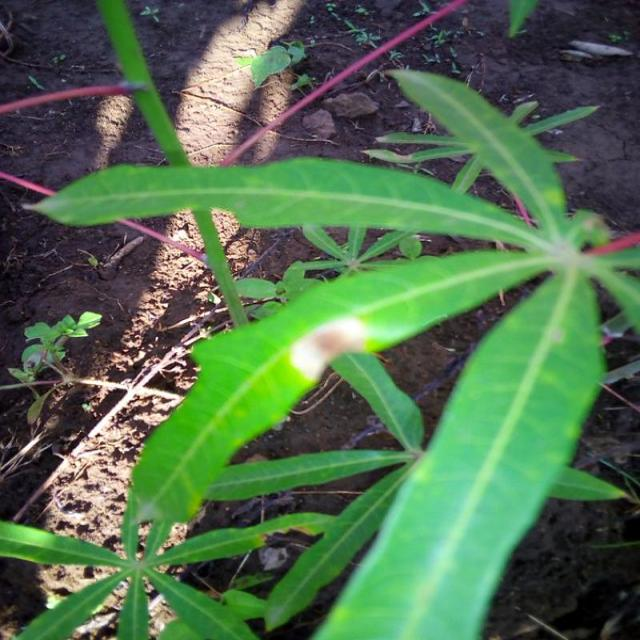cassava leaf: (18, 62, 636, 638), (125, 244, 553, 529), (307, 264, 608, 638)
